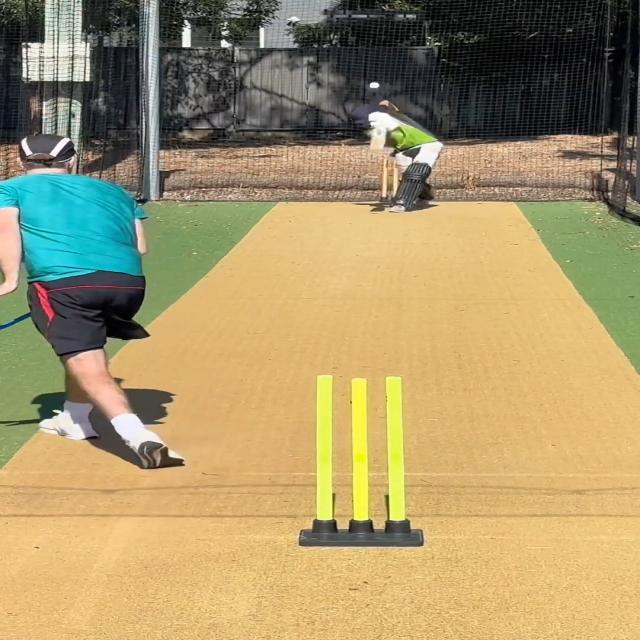ball: (367, 81, 382, 89)
stump: (296, 375, 430, 548)
